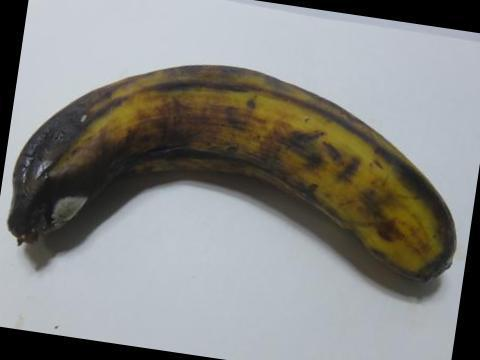overripe: (7, 38, 476, 315)
rotten: (0, 81, 144, 274)
